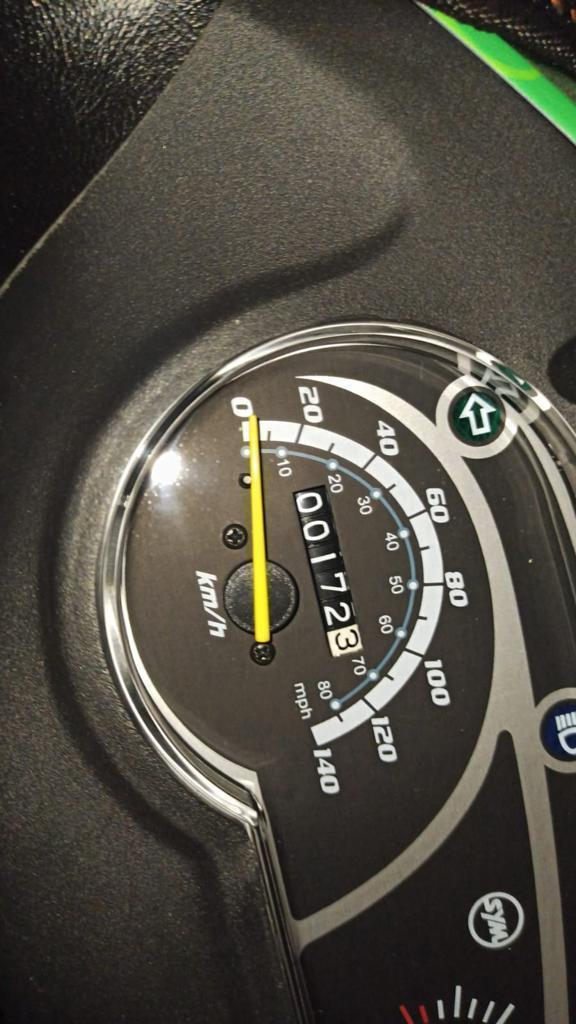0: (293, 489, 323, 514), (300, 519, 331, 542), (358, 505, 373, 515), (329, 484, 344, 493)
1: (307, 551, 338, 566)
2: (320, 600, 350, 626)
3: (333, 626, 361, 652), (357, 495, 370, 505)
7: (318, 571, 348, 595)
odometer: (288, 485, 371, 659)
